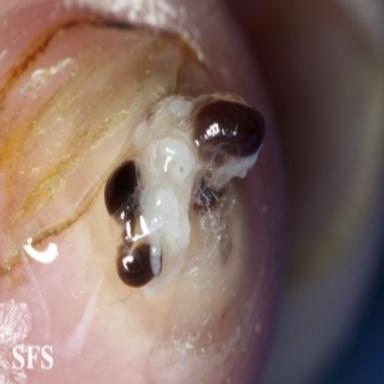Tungiasis: (104, 95, 265, 333)
